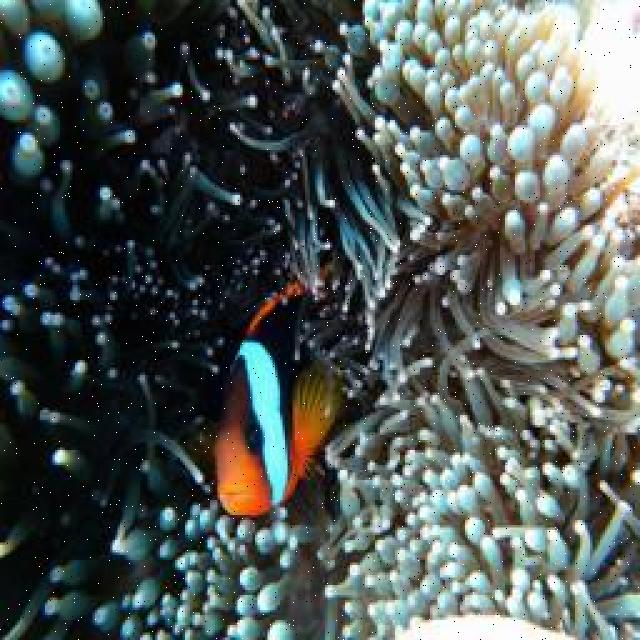fish: (214, 282, 343, 517)
